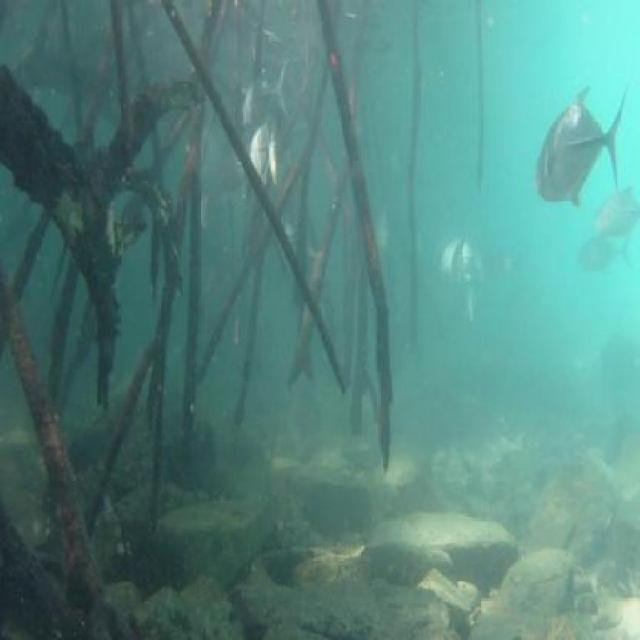Caranx_sexfasciatus_juvenile: (535, 76, 627, 210), (240, 58, 286, 142), (436, 228, 484, 306), (245, 120, 283, 195), (592, 180, 640, 237), (576, 236, 630, 276)
